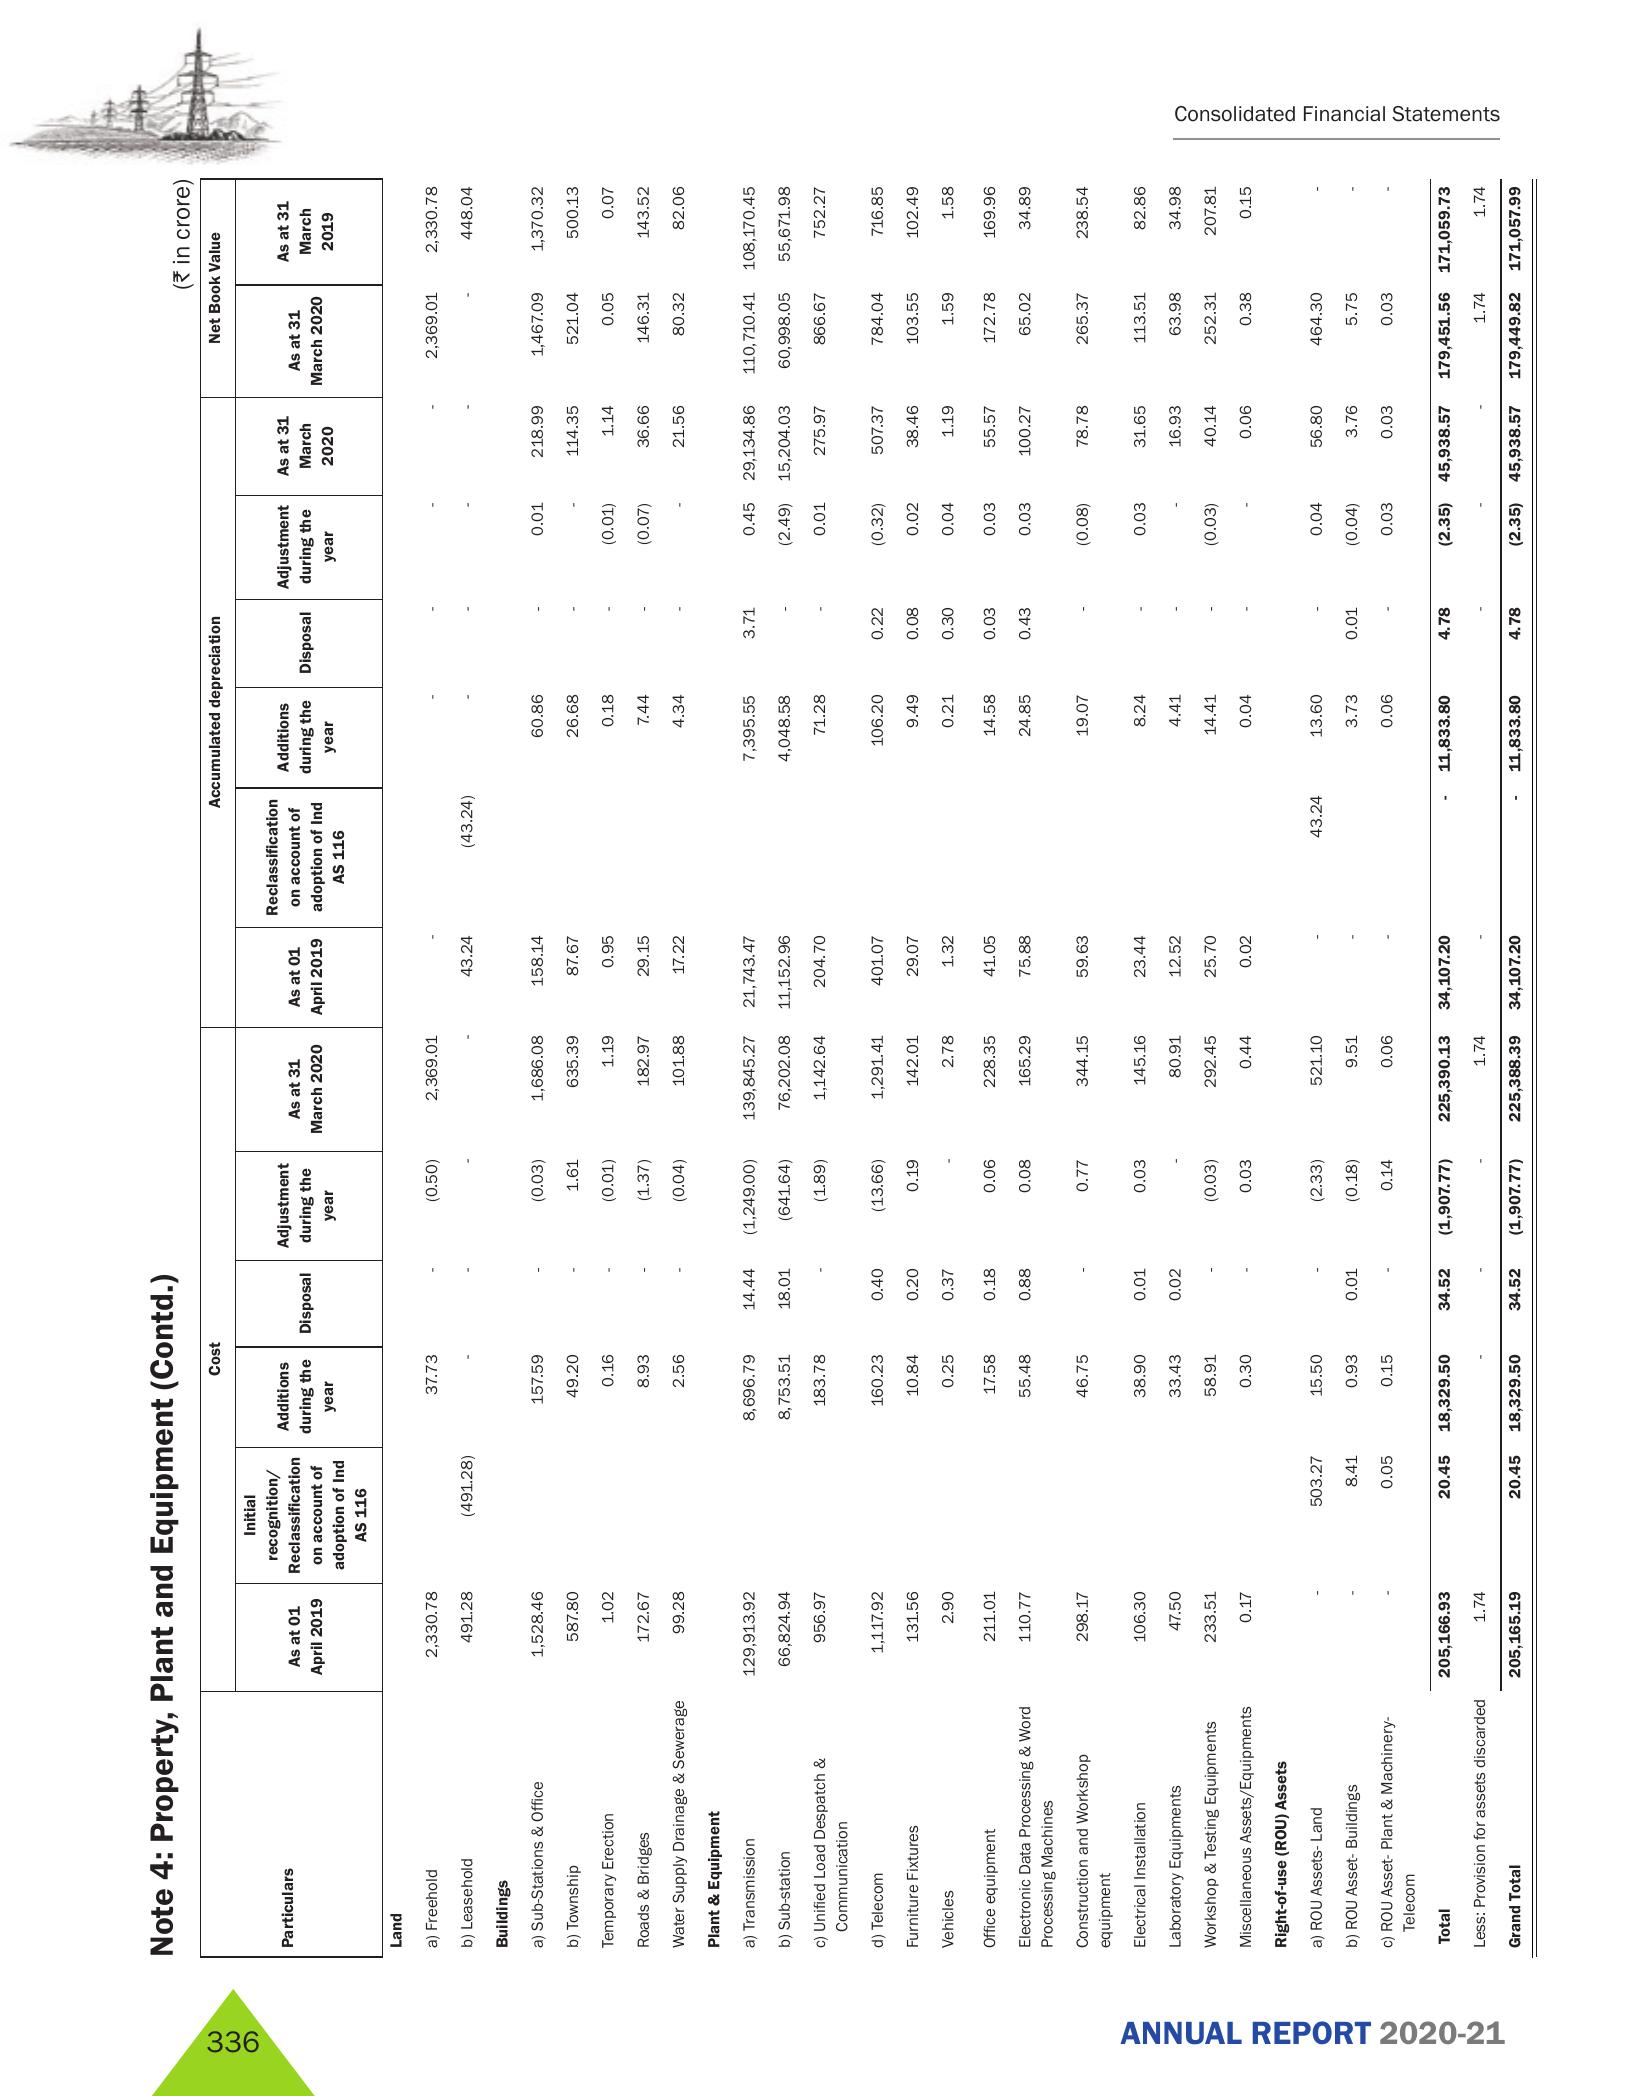Footer: (0, 1979, 1650, 2096)
Header: (0, 0, 1650, 175)
Table: (158, 175, 1573, 1991)
